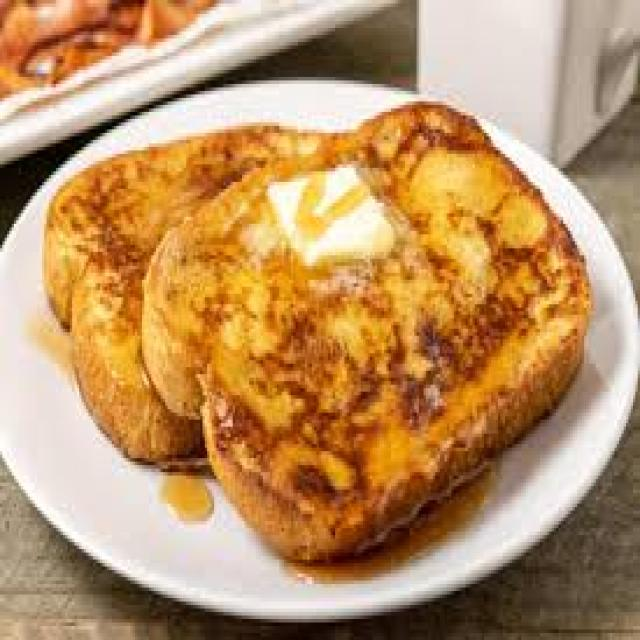Bread: (144, 107, 591, 559), (46, 126, 338, 459)
